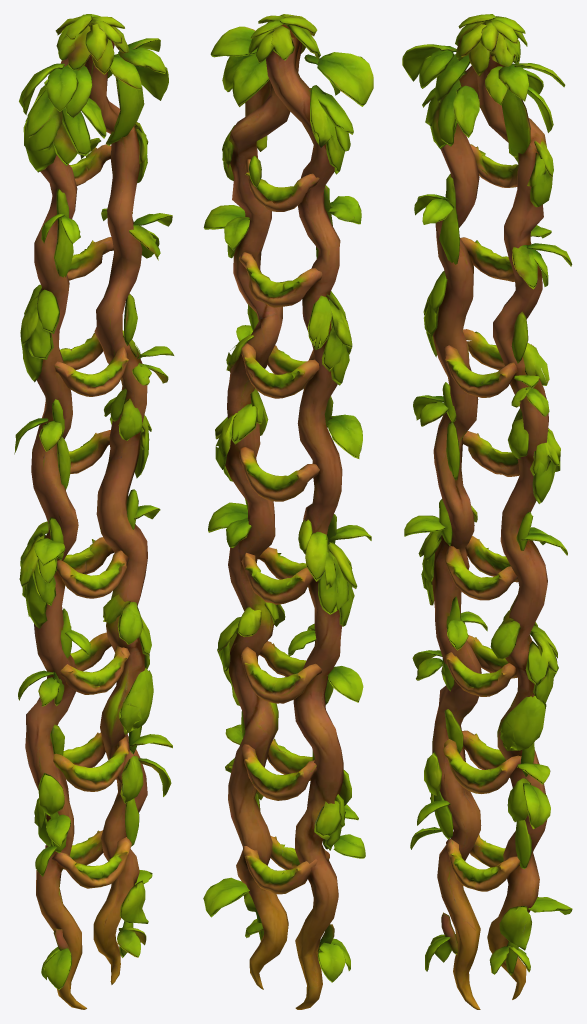
File: vine_climb.glb
The picture shows the model from 3 angles, left to right: view 1: azimuth 30°, elevation 25°; view 2: azimuth 150°, elevation 25°; view 3: azimuth 330°, elevation 25°; orthographic projection.
Size of what is drawn, in the model's own units: 0.1674 by 1 by 0.0842.
Materials: 1 (1 with a texture image).
